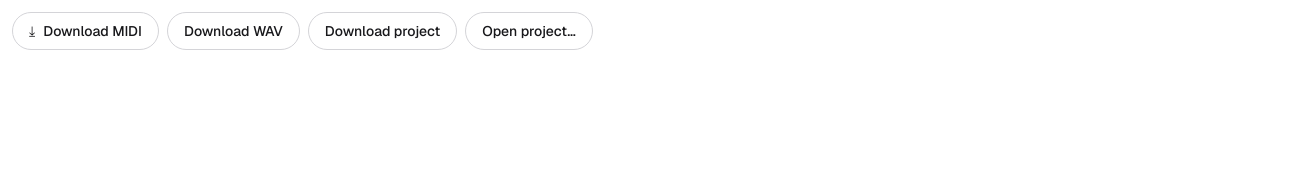
it: Download project with audio › shows why when the audio cannot be bundled
Click the button "Download project".
click(382, 31)  # box [308,12,457,50]
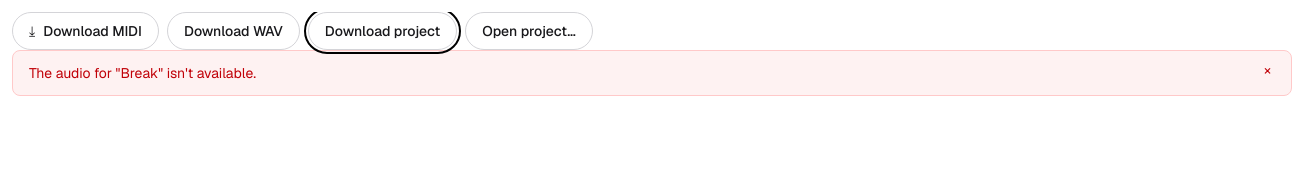
Now the message shows "isn't available", box [29,64,256,82]
